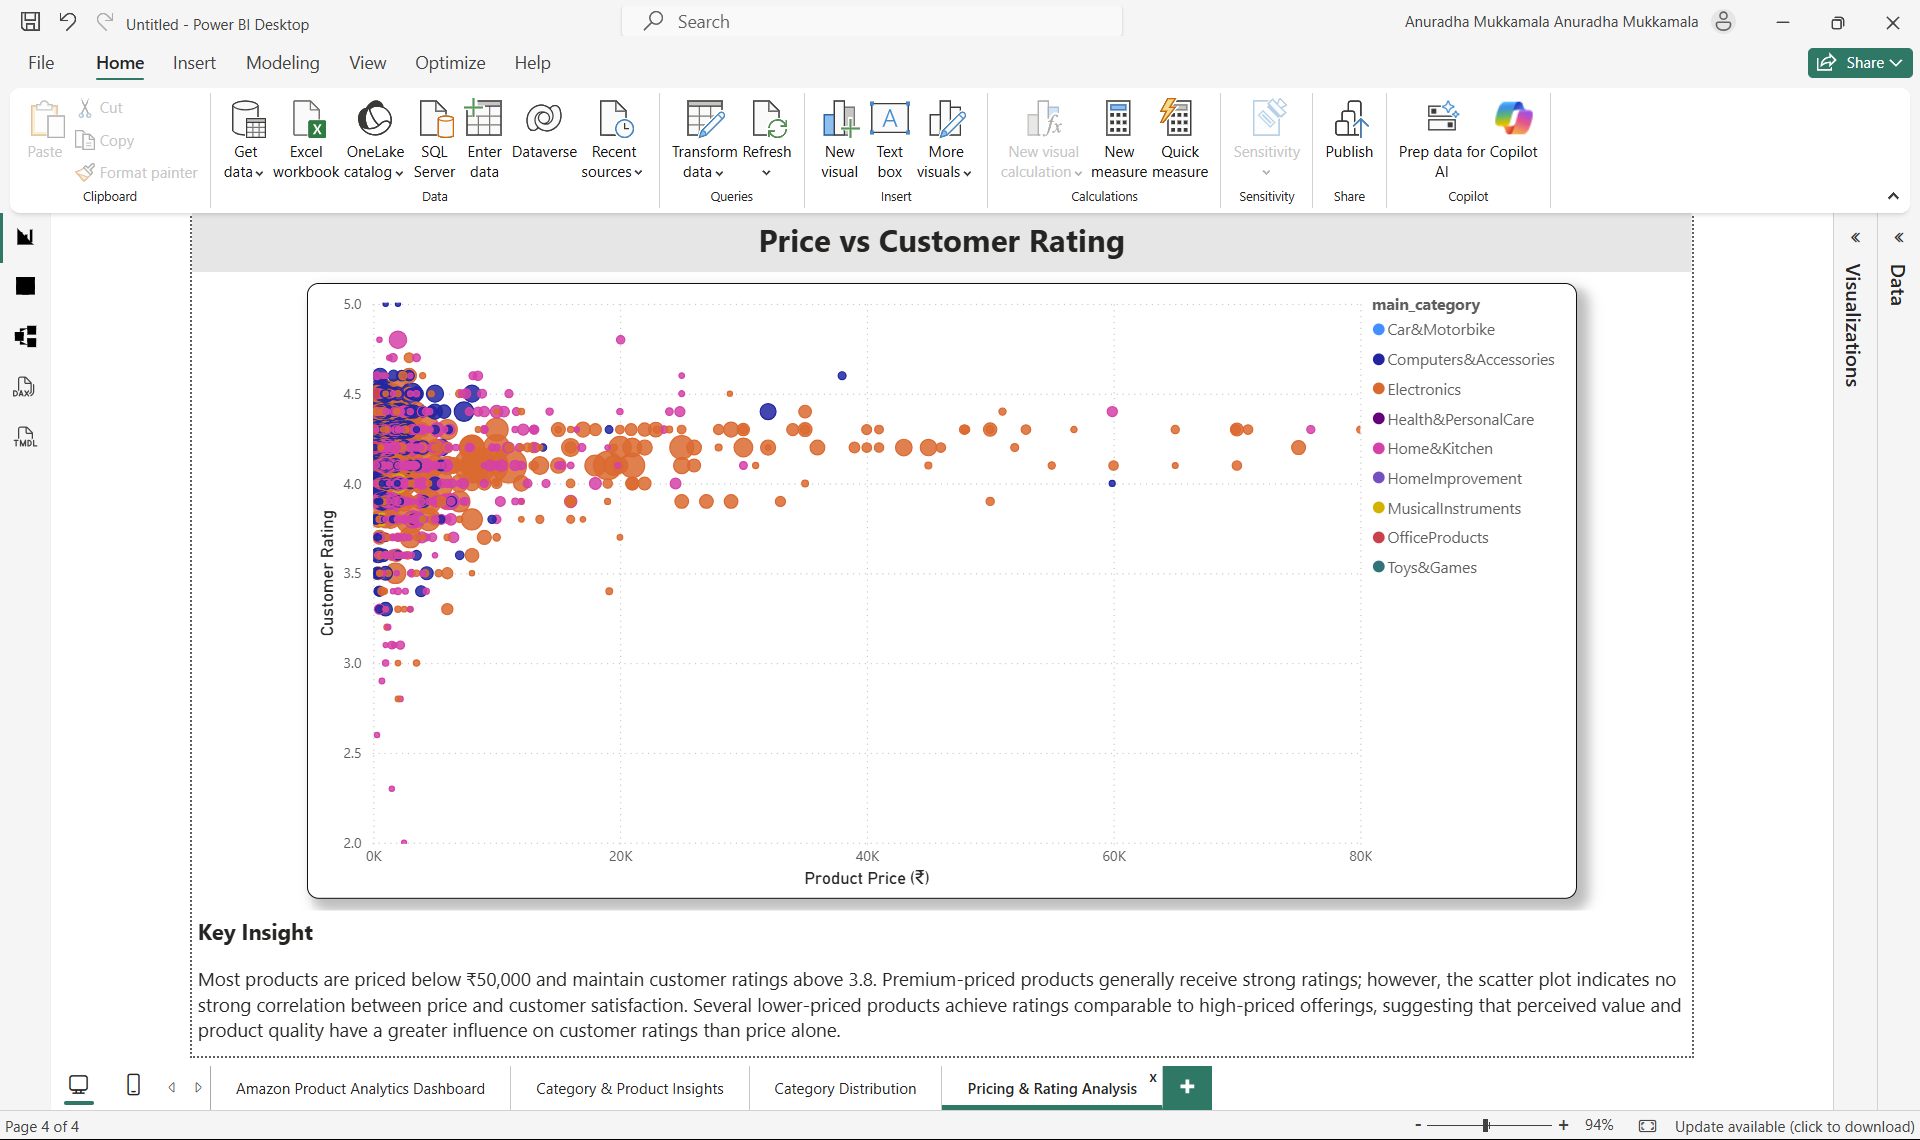

This screenshot's page, from the dashboard's own definition file:
{"tool":"powerbi","page":{"name":"Pricing & Rating Analysis","canvas":[1280,720],"ordinal":3},"visuals":[{"type":"scatterChart","title":"Pricing & Customer Satisfaction Analysis","fields":{"Y":["amazon_dataset_final_cleaned.rating"],"Series":["amazon_dataset_final_cleaned.main_category"],"X":["amazon_dataset_final_cleaned.actual_price"],"Size":["Sum(amazon_dataset_final_cleaned.rating_count)"]},"box":[98.6,60,1084.3,525.7],"z":0},{"type":"textbox","box":[0,0,1280,50],"z":1000},{"type":"textbox","box":[0,595.7,1280,124.3],"z":2000}]}

Visuals, with their boxes on the page's 1280x720 design canvas (x1, y1, x2, y2). These are canvas units, not pixel positions in the 1920x1140 screenshot, which may show the page scaled, cropped or inside an application window:
"Pricing & Customer Satisfaction Analysis" scatterChart: box(99, 60, 1183, 586)
textbox: box(0, 0, 1280, 50)
textbox: box(0, 596, 1280, 720)
